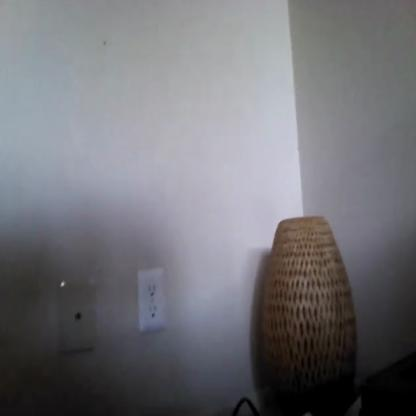OUTLET: (138, 266, 165, 332)
